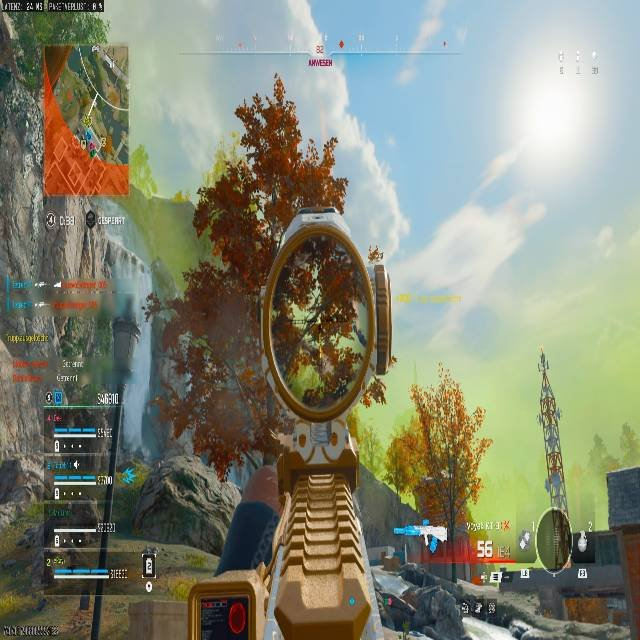player: (376, 561, 468, 639)
